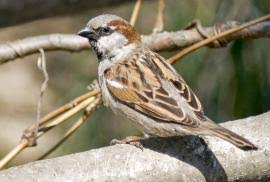hsparrow: (76, 12, 265, 163)
